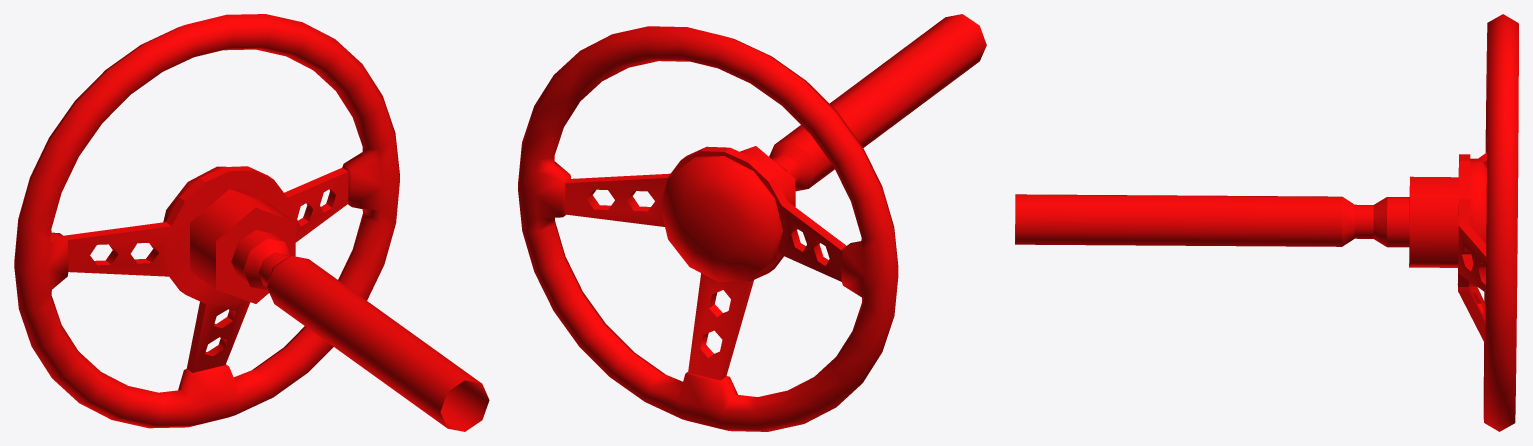
The model's file is Mini_Steeringwheel.fbx.
3 renders of one model, left to right at view 1: azimuth 30°, elevation 25°; view 2: azimuth 150°, elevation 25°; view 3: azimuth 270°, elevation 25°, orthographic. The views are drawn at different scales.
Visible parts, largest first — view 1: Mini_SteeringWheel; view 2: Mini_SteeringWheel; view 3: Mini_SteeringWheel.
Boxes of the visible parts, x1=… form: Mini_SteeringWheel: x1=14, y1=14, x2=489, y2=431; Mini_SteeringWheel: x1=518, y1=14, x2=986, y2=431; Mini_SteeringWheel: x1=1015, y1=14, x2=1518, y2=431.
Bounding box in the file's own units: 0.3152 × 0.3134 × 0.3784.
